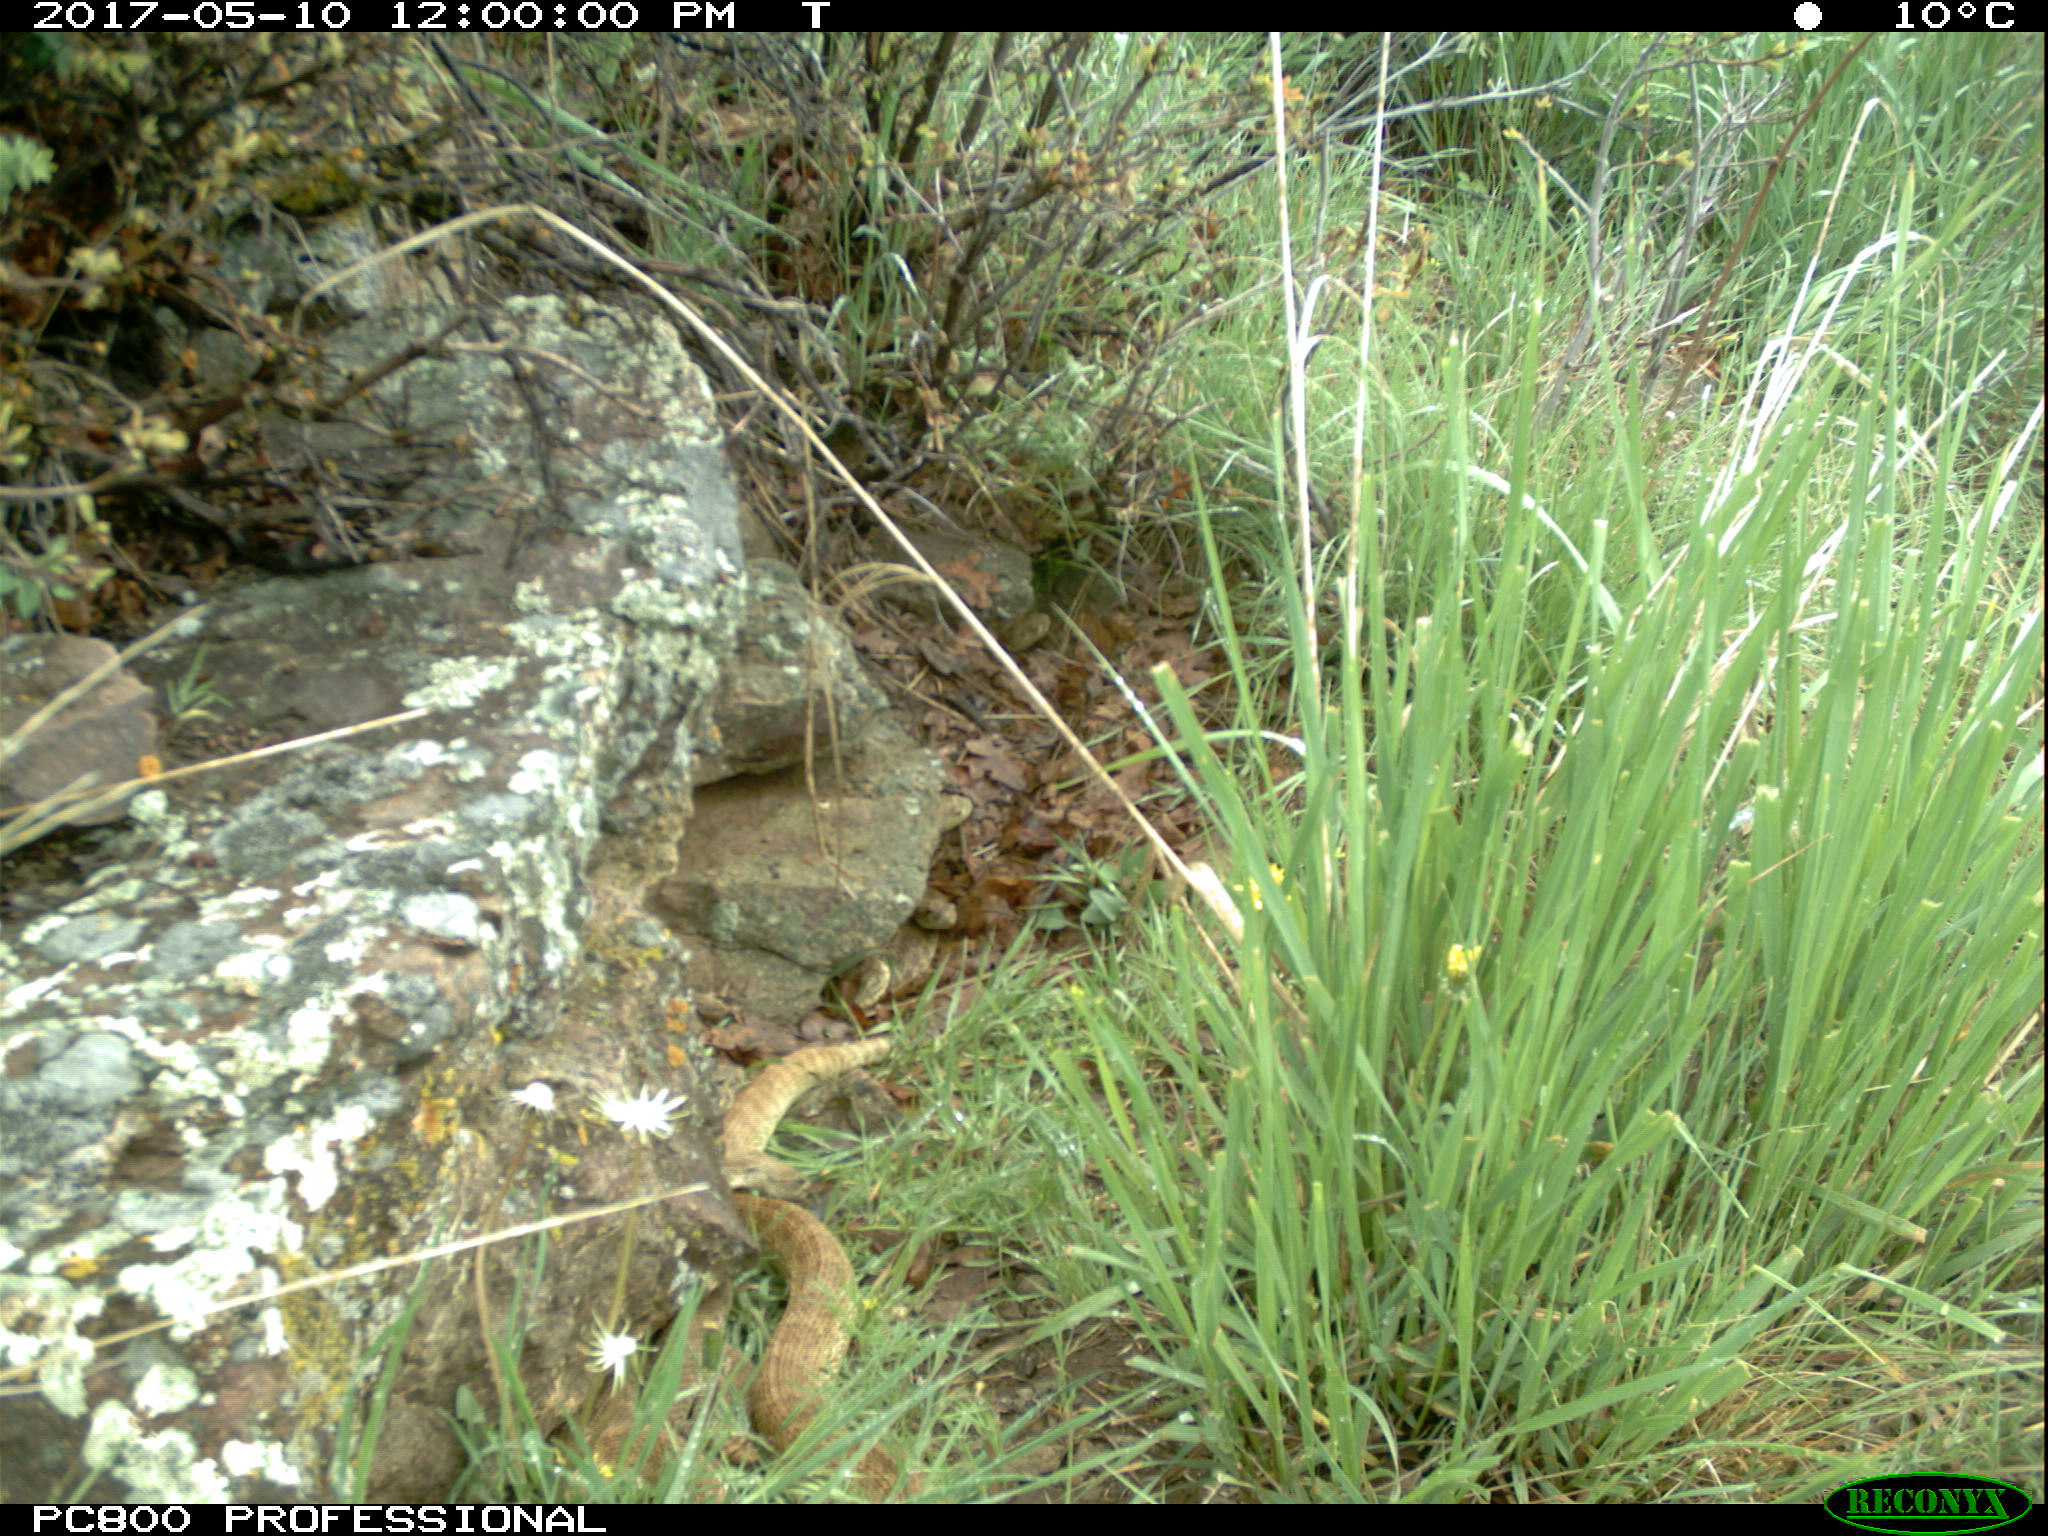snake: (721, 1026, 921, 1502), (564, 1318, 748, 1494), (839, 941, 935, 1007), (913, 892, 964, 936), (1000, 608, 1055, 649), (939, 794, 974, 828)
